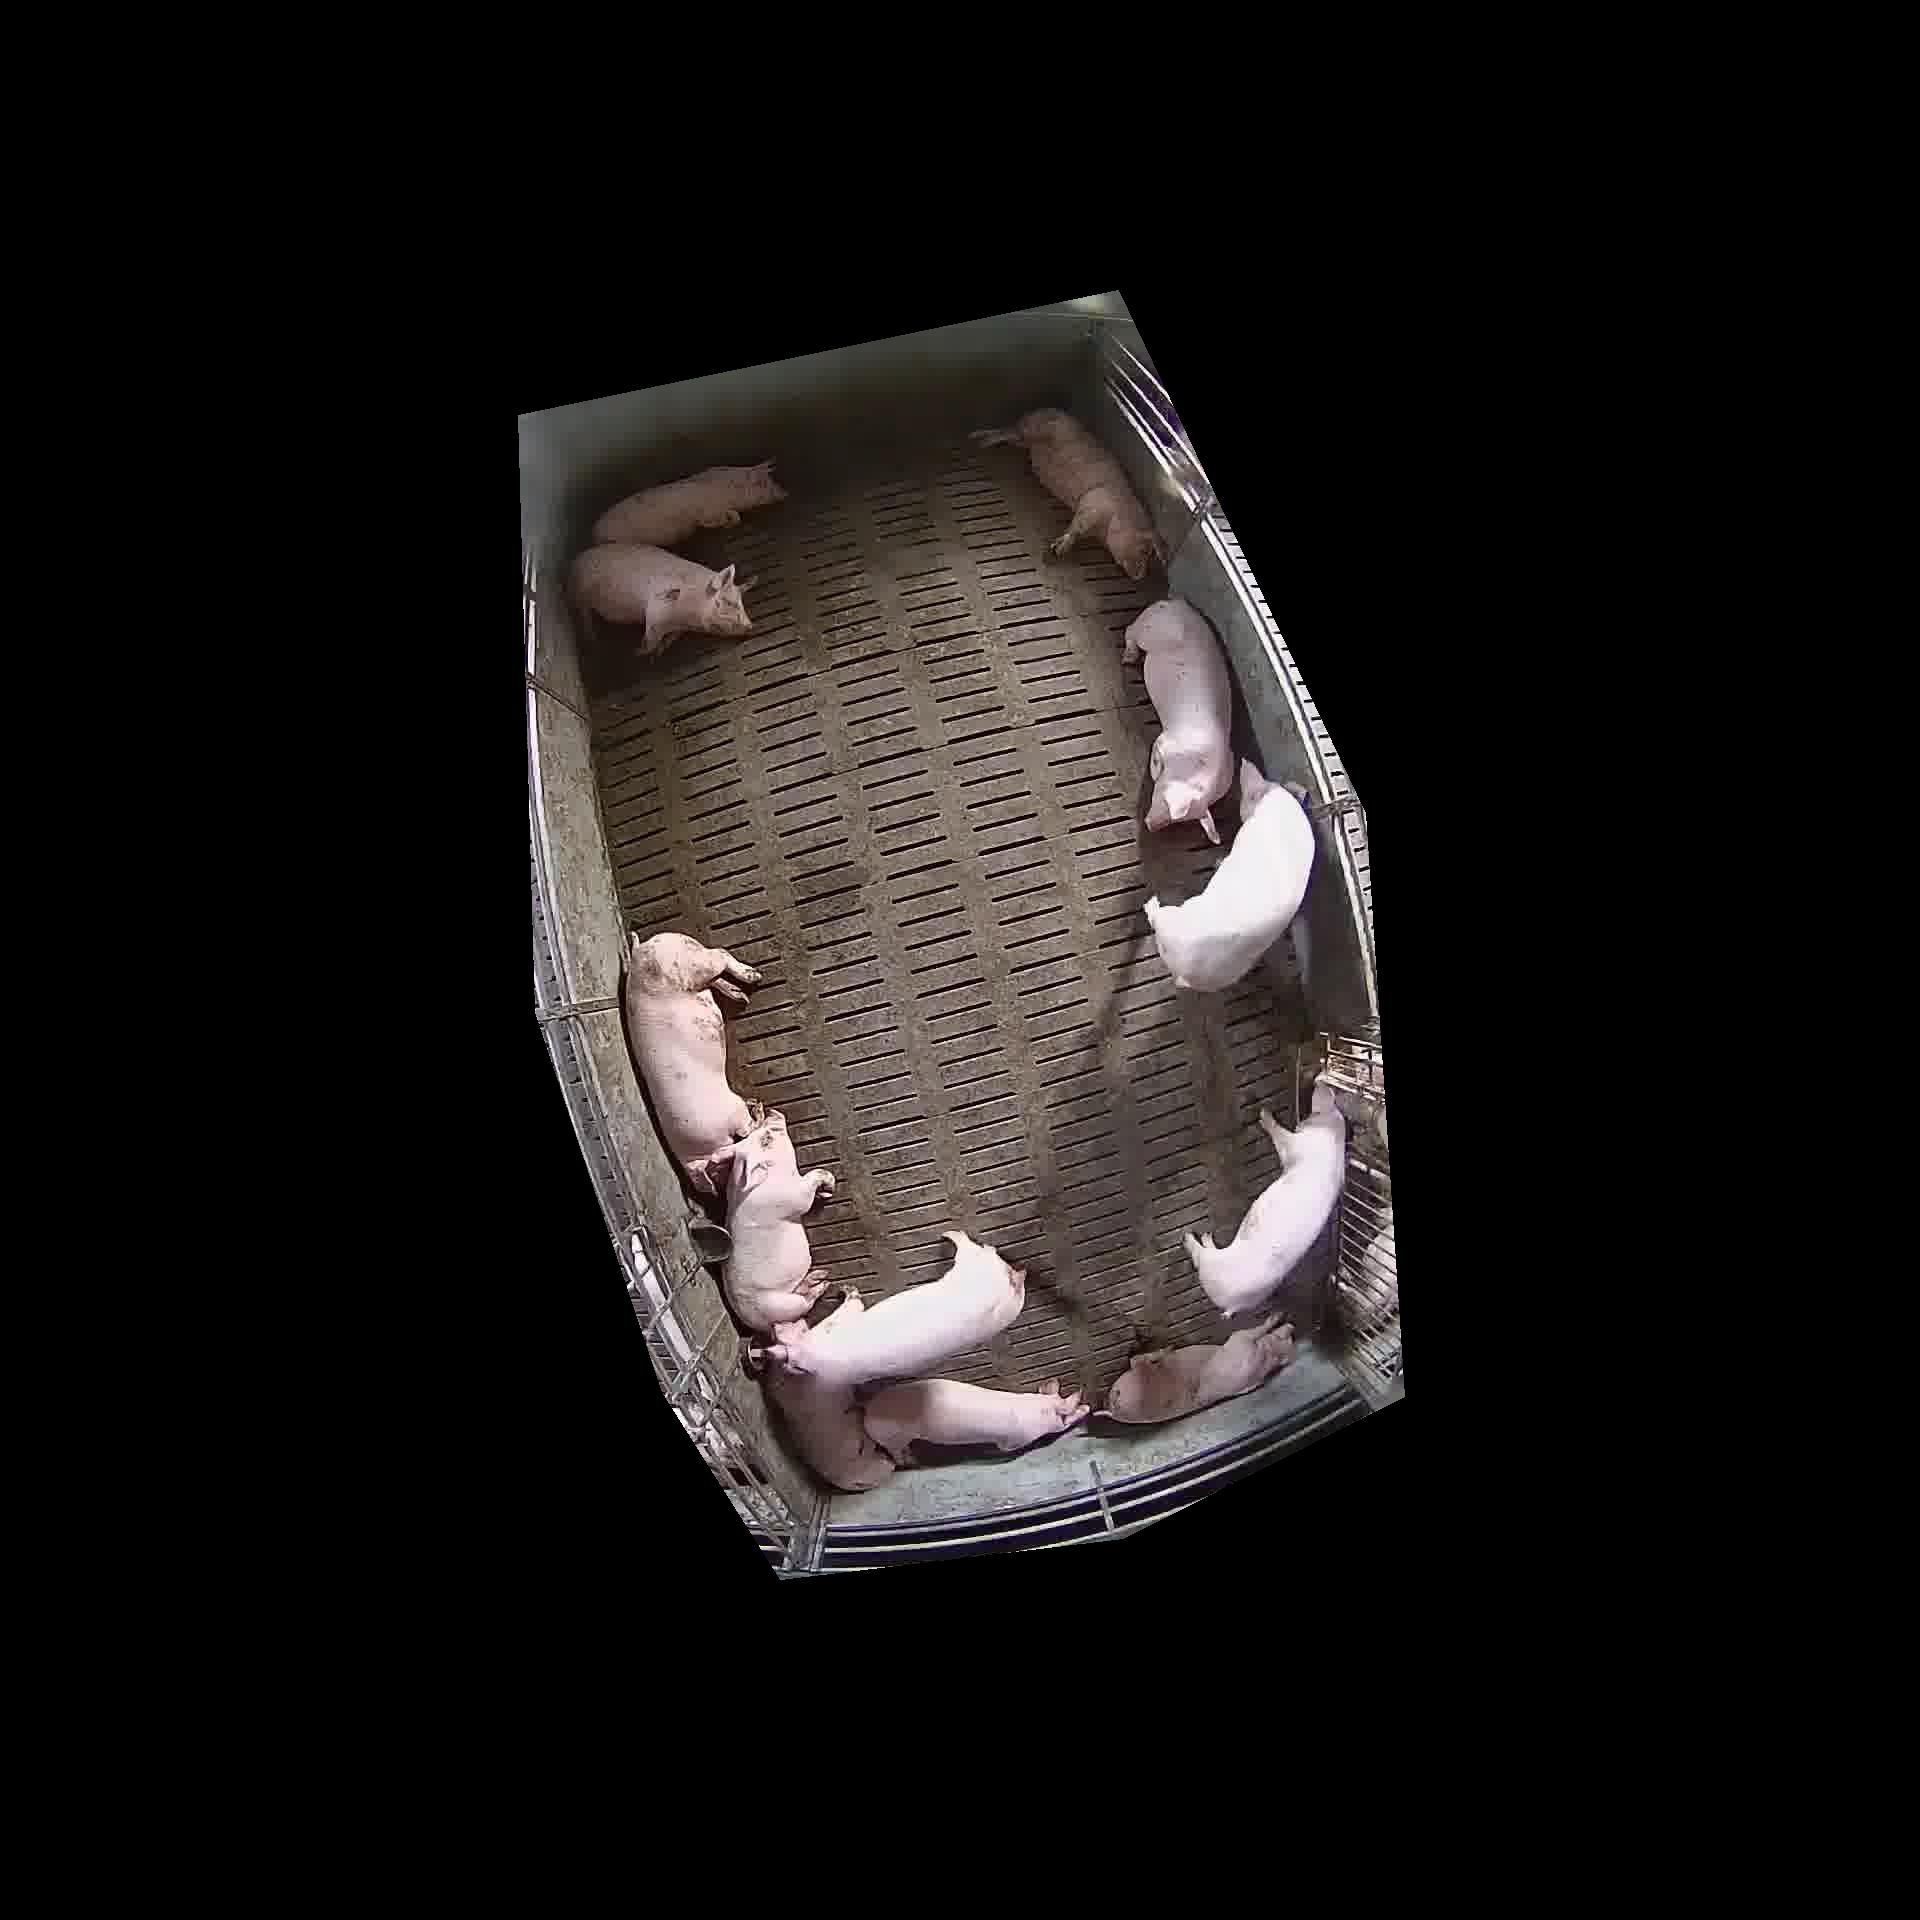pig: (768, 1231, 1023, 1387), (1145, 761, 1313, 992), (1187, 1085, 1345, 1315), (624, 934, 760, 1194), (971, 410, 1162, 578), (1124, 598, 1233, 842), (723, 1111, 833, 1333), (570, 543, 758, 652), (1108, 1315, 1296, 1422), (863, 1378, 1088, 1463), (593, 461, 784, 547), (761, 1363, 891, 1489)
